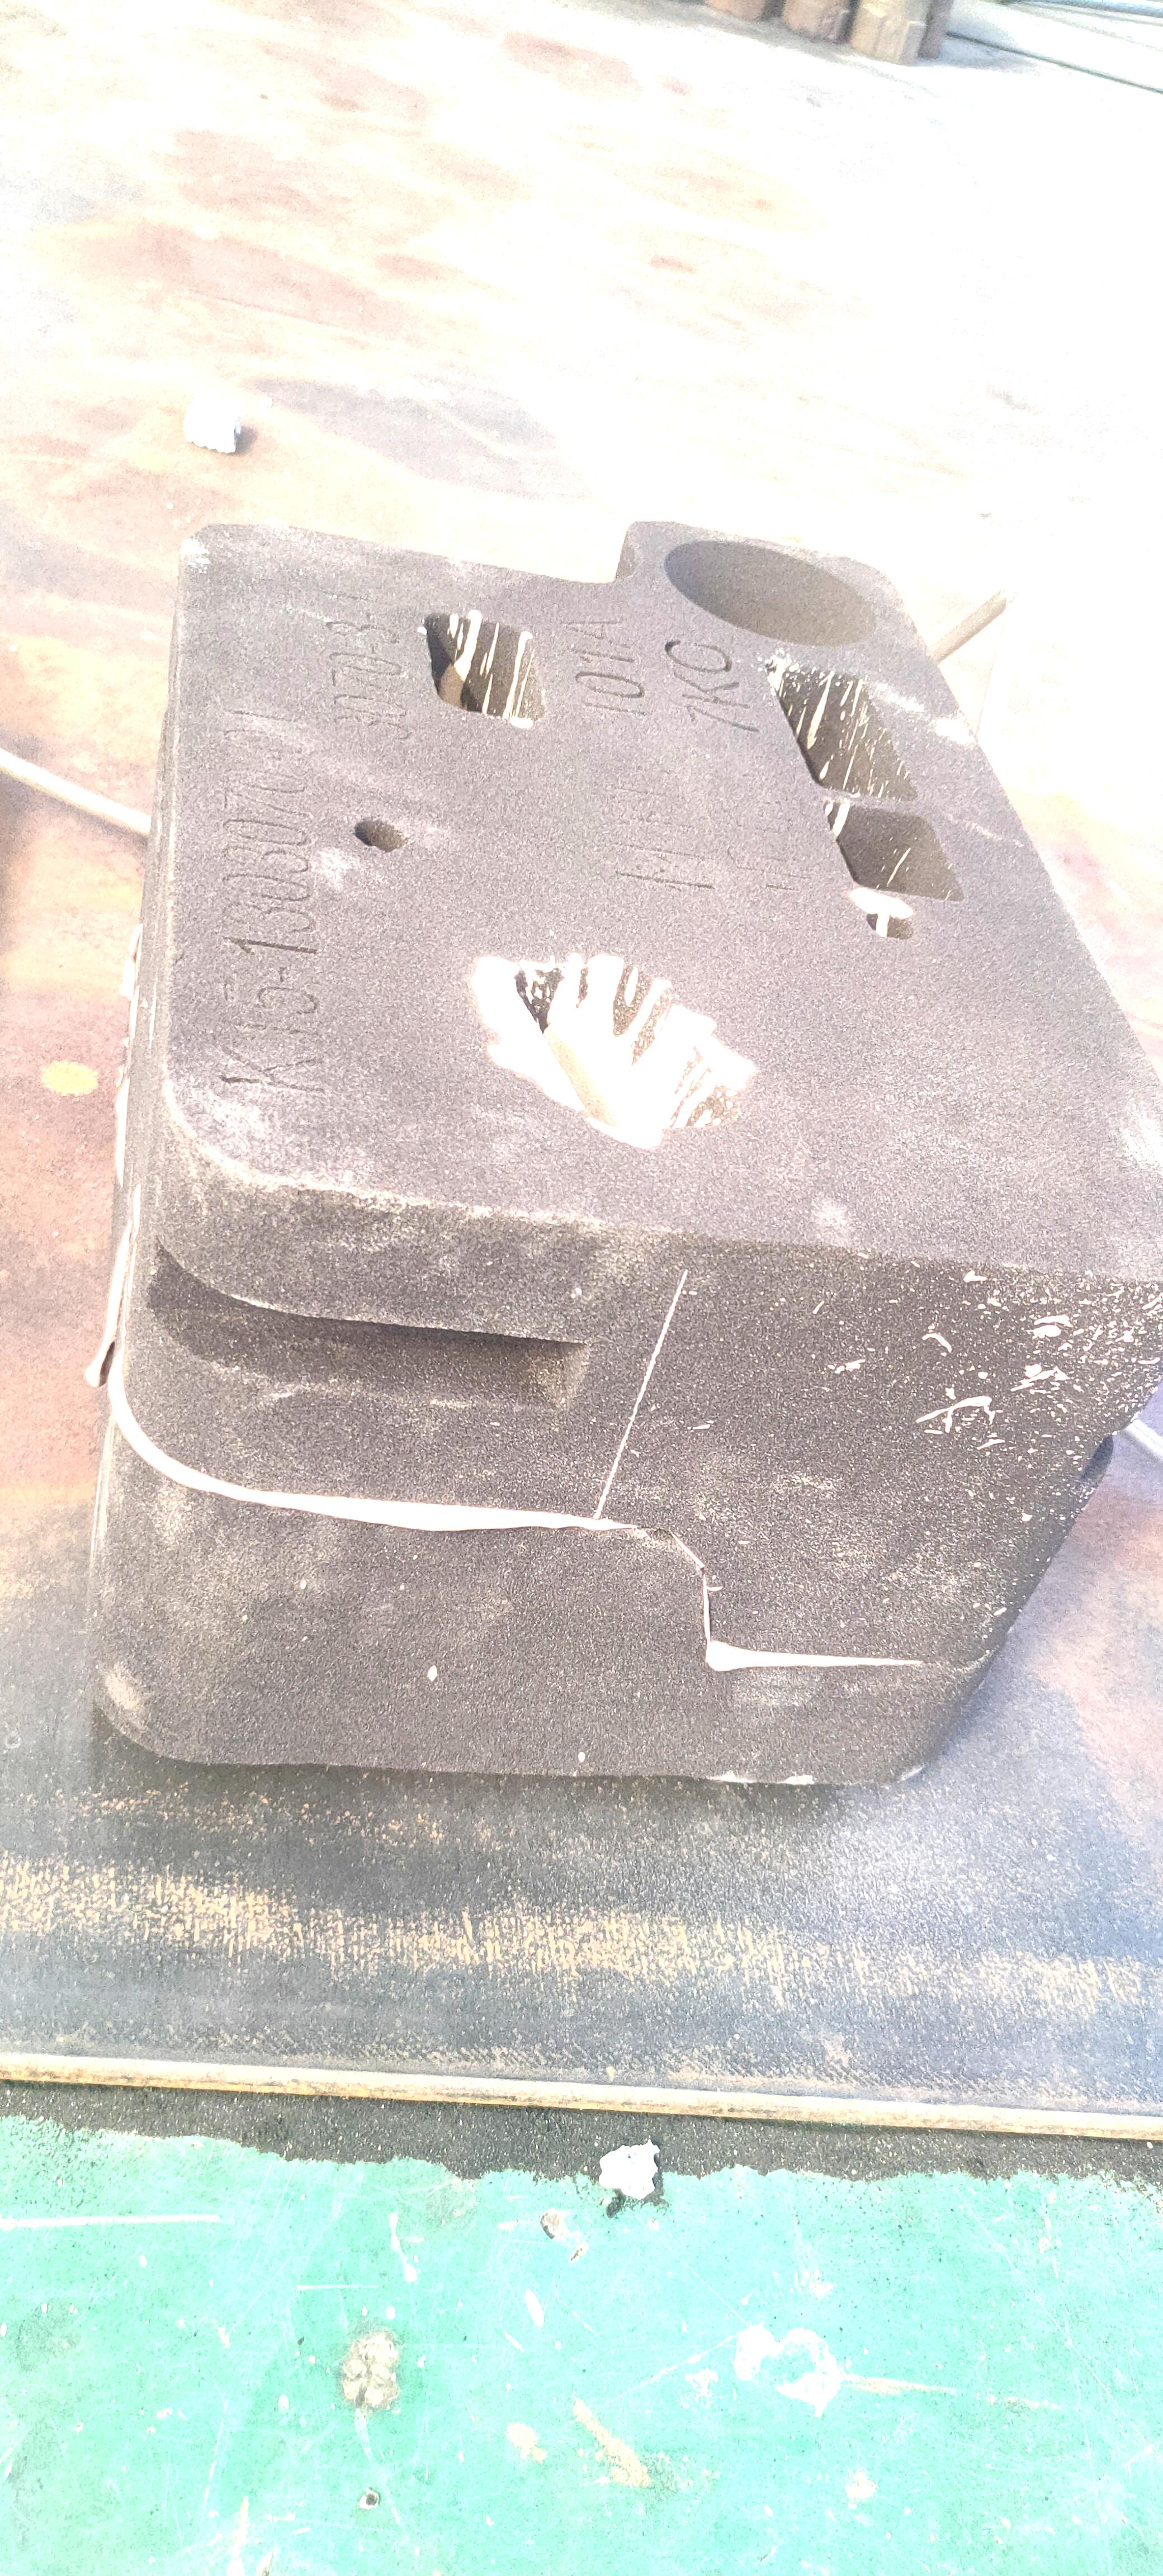pouring hole: (664, 537, 884, 651)
